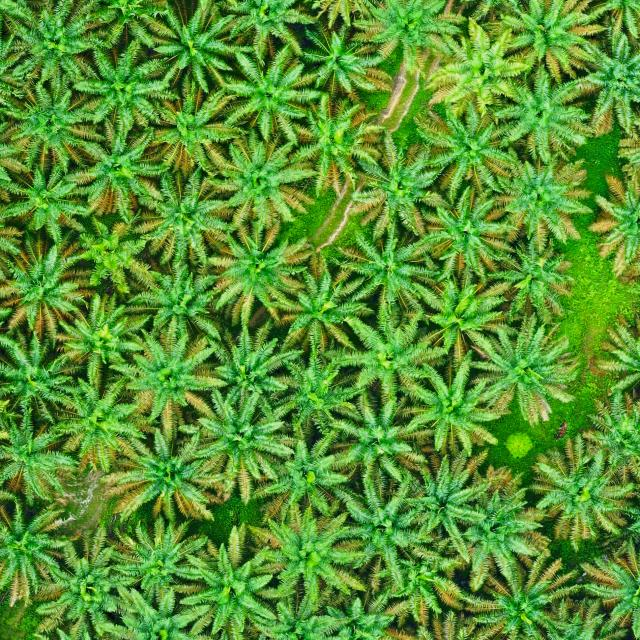Tree: (95, 326, 232, 438), (241, 501, 368, 620), (196, 125, 323, 238), (447, 461, 558, 590), (326, 298, 454, 408), (28, 518, 142, 640), (95, 424, 228, 527), (180, 385, 294, 505), (524, 429, 634, 552), (405, 94, 524, 207), (474, 304, 582, 424), (169, 528, 283, 640), (270, 242, 376, 361), (200, 39, 318, 145), (245, 422, 360, 530), (333, 470, 437, 588), (322, 212, 442, 314), (312, 387, 425, 495), (70, 36, 185, 142), (481, 144, 596, 250), (284, 90, 390, 205), (346, 131, 454, 243), (60, 116, 174, 222), (488, 60, 599, 168), (201, 220, 307, 333), (421, 15, 533, 118), (410, 181, 518, 286), (347, 0, 473, 89), (0, 229, 99, 340), (128, 0, 240, 98), (466, 547, 581, 640), (388, 444, 493, 544), (103, 510, 213, 605), (0, 0, 111, 93), (132, 169, 231, 272), (266, 340, 370, 435), (52, 372, 146, 476), (492, 0, 607, 85), (398, 359, 497, 456), (0, 81, 100, 177), (130, 88, 238, 176), (50, 292, 151, 386), (122, 257, 226, 348), (416, 269, 512, 367), (203, 314, 304, 405), (0, 493, 79, 608), (0, 403, 84, 509), (299, 22, 396, 109), (566, 22, 640, 136), (0, 158, 92, 248), (370, 545, 470, 627), (62, 203, 148, 292), (484, 238, 574, 323), (0, 327, 74, 428), (97, 581, 220, 640), (578, 530, 640, 638), (585, 162, 640, 279), (314, 579, 412, 640), (250, 586, 358, 640), (215, 0, 319, 53), (580, 390, 640, 477), (524, 592, 629, 640), (0, 29, 33, 138), (406, 607, 506, 640), (0, 110, 33, 210), (0, 184, 27, 294), (31, 627, 128, 640)
